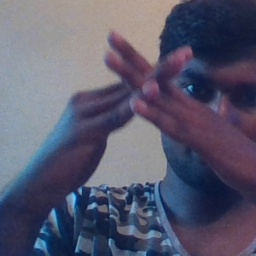W: (74, 23, 210, 159)
